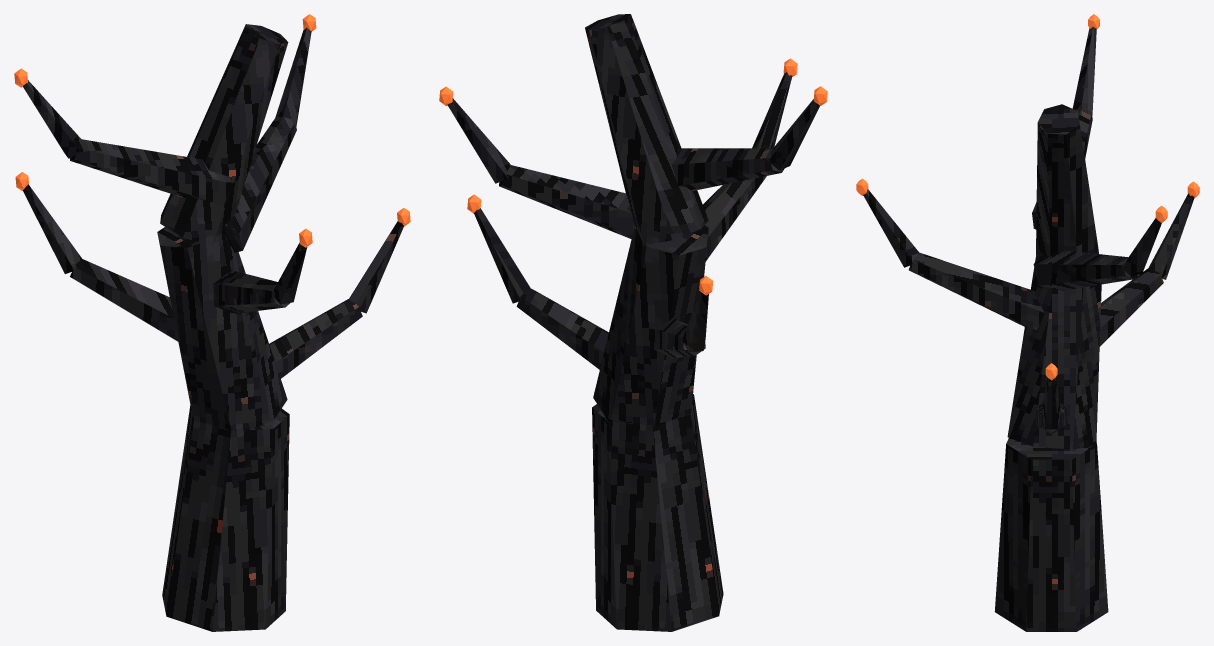
Rendered from arvore_jovem.glb.
The picture shows the model from 3 angles, left to right: view 1: azimuth 30°, elevation 25°; view 2: azimuth 150°, elevation 25°; view 3: azimuth 270°, elevation 25°; orthographic projection. The views are drawn at different scales.
Parts seen in each view (by area): view 1: vulcao_arvore_jovem; view 2: vulcao_arvore_jovem; view 3: vulcao_arvore_jovem.
Part boxes in pixels (x1,y1,x2,y2): vulcao_arvore_jovem: (14,14,410,631); vulcao_arvore_jovem: (439,14,827,631); vulcao_arvore_jovem: (856,14,1199,631).
Bounding box in the file's own units: 0.9999 × 1.47 × 0.8829.
2 materials, 1 textured.
